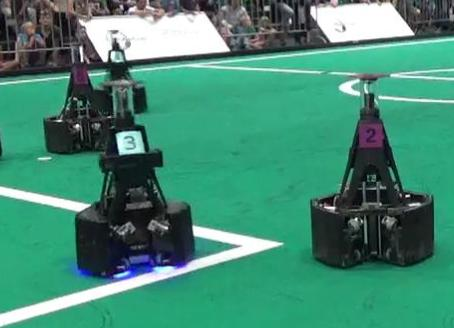robot: (72, 78, 202, 284), (308, 71, 439, 271), (39, 37, 125, 155)
